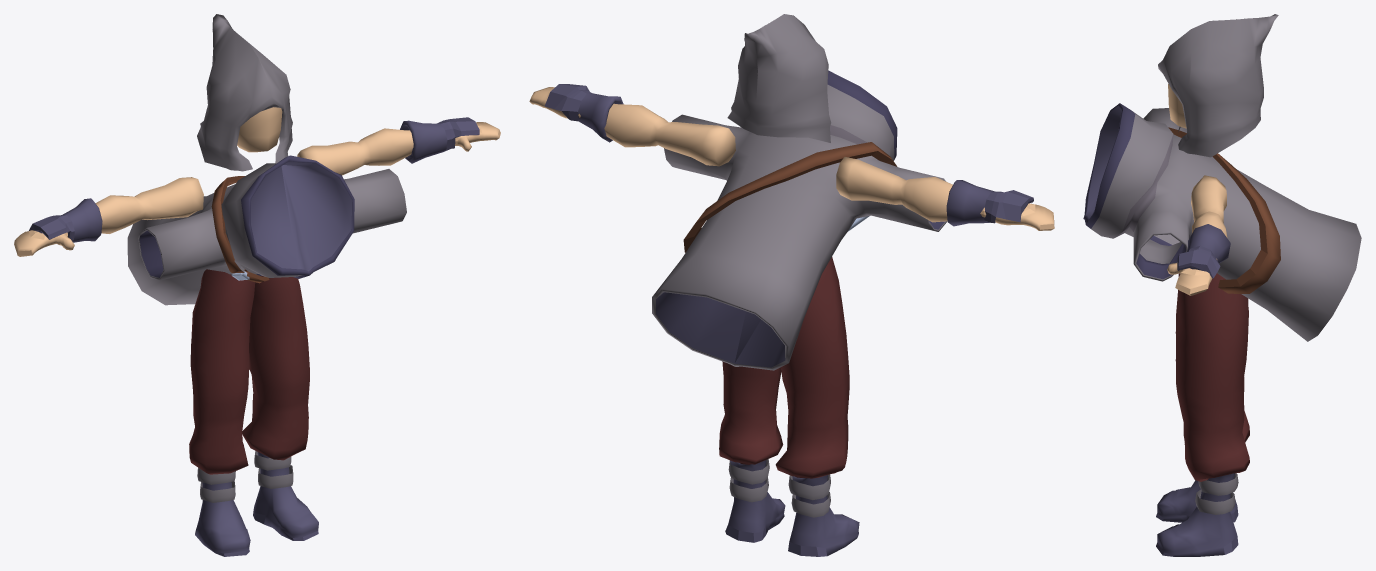
Rendered from MageTest.fbx.
3 views of the same model, side by side, from view 1: azimuth 30°, elevation 25°; view 2: azimuth 150°, elevation 25°; view 3: azimuth 270°, elevation 25° (orthographic). The views are drawn at different scales.
Visible parts, largest first — view 1: Coat, Pants, Hood, Arms, Boots, Gloves, Bootstrap, Hands, Head; view 2: Coat, Pants, Hood, Arms, Boots, Gloves, Bootstrap, Hands; view 3: Coat, Pants, Hood, Boots, Gloves, Arms, Bootstrap, Hands, Head.
Part boxes in pixels (x1,y1,x2,y2): Coat: [127, 155, 406, 305]; Pants: [189, 269, 309, 474]; Hood: [197, 14, 292, 171]; Arms: [95, 128, 413, 233]; Boots: [195, 452, 318, 556]; Gloves: [29, 117, 479, 242]; Bootstrap: [197, 451, 293, 502]; Hands: [14, 122, 500, 256]; Head: [237, 107, 282, 152]; Coat: [652, 70, 947, 370]; Pants: [719, 257, 849, 478]; Hood: [727, 14, 831, 142]; Arms: [604, 103, 952, 222]; Boots: [725, 460, 859, 556]; Gloves: [545, 84, 1033, 226]; Bootstrap: [728, 459, 830, 517]; Hands: [529, 87, 1054, 230]; Coat: [1083, 103, 1361, 341]; Pants: [1175, 273, 1249, 481]; Hood: [1158, 14, 1278, 157]; Boots: [1156, 473, 1238, 556]; Gloves: [1177, 224, 1230, 278]; Arms: [1191, 175, 1227, 238]; Bootstrap: [1195, 473, 1238, 514]; Hands: [1167, 258, 1217, 295]; Head: [1168, 84, 1186, 128].
Size of the model in its own units: 698 by 679 by 331.
